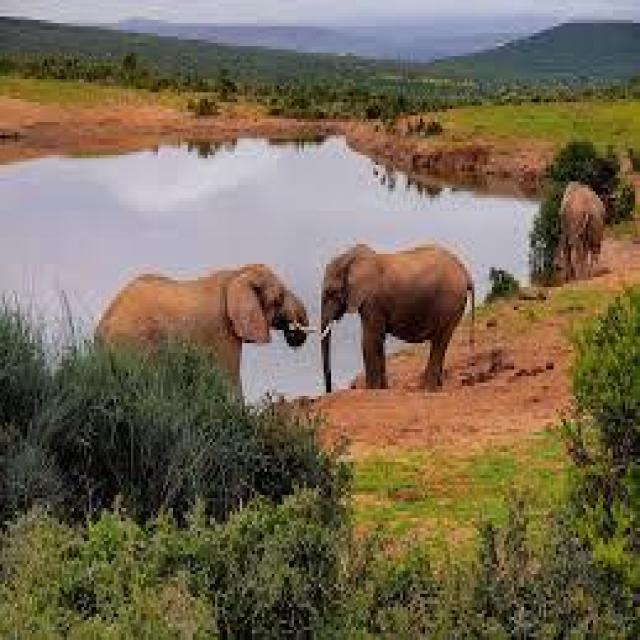Elephant: (91, 258, 302, 402), (311, 238, 477, 390)
